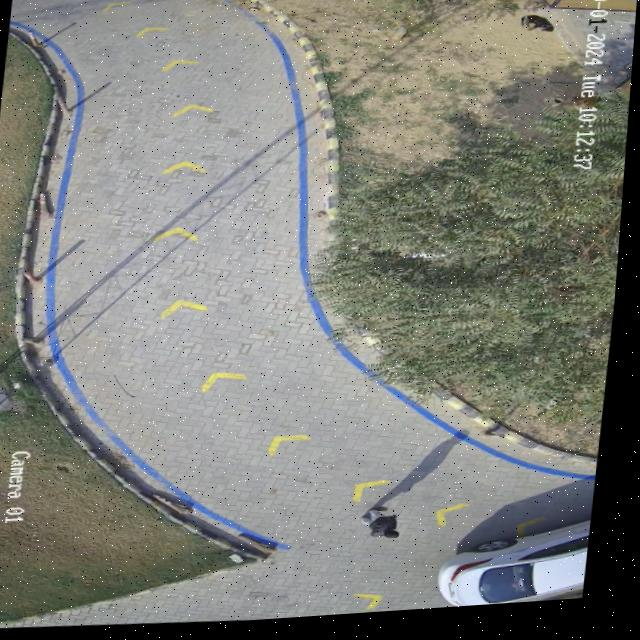car: (446, 529, 599, 614)
